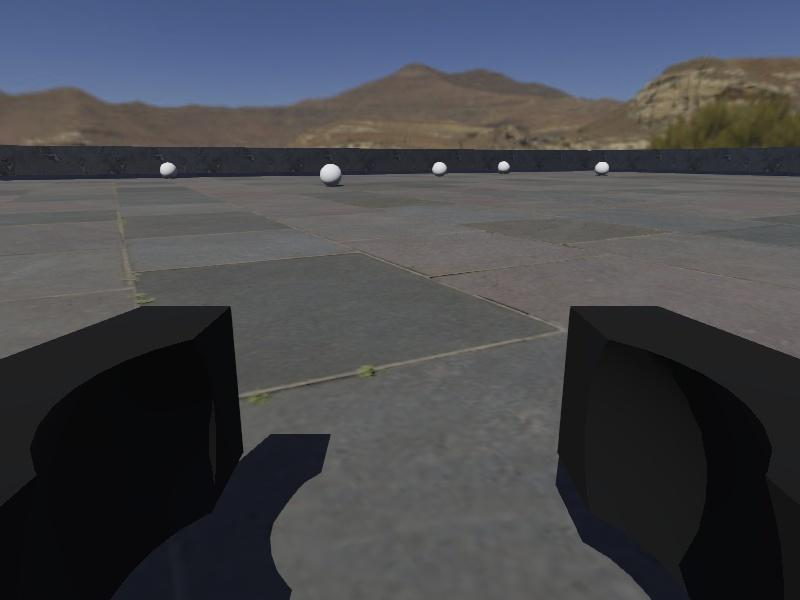white ball: (318, 162, 342, 187), (158, 160, 179, 180), (431, 160, 448, 176), (595, 159, 611, 175), (496, 159, 512, 174)
